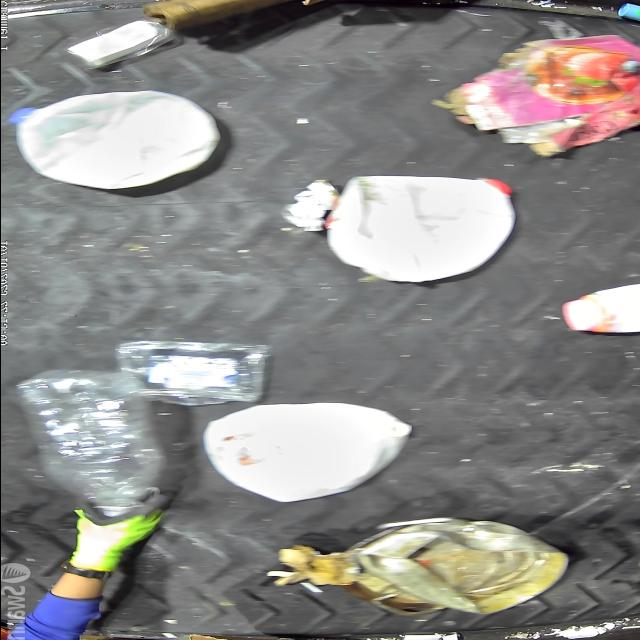milk_jug: (200, 402, 413, 502), (326, 174, 520, 282), (6, 92, 215, 190)
plastic_bottle: (15, 368, 164, 516)
